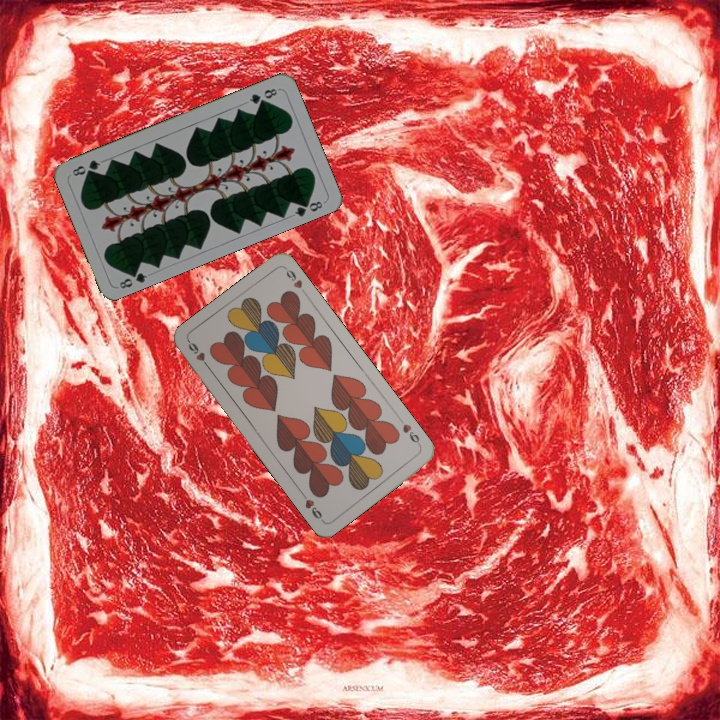G8: (115, 265, 150, 291), (245, 84, 280, 107)
H9: (395, 414, 424, 450), (184, 337, 213, 372)
